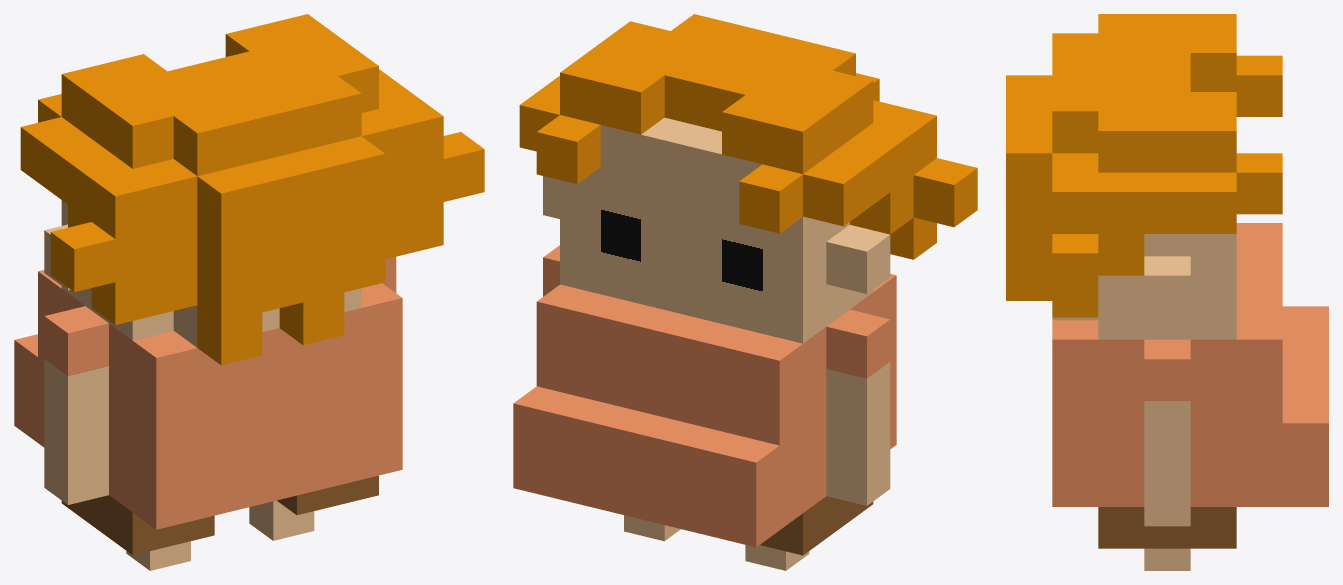
Rendered from chr_fatkid.fbx.
3 renders of one model, left to right at view 1: azimuth 30°, elevation 25°; view 2: azimuth 150°, elevation 25°; view 3: azimuth 270°, elevation 25°, orthographic. The views are drawn at different scales.
Parts seen in each view (by area): view 1: chr_fatkid; view 2: chr_fatkid; view 3: chr_fatkid.
Part boxes in pixels (<box>): chr_fatkid: <box>14,14,484,570</box>; chr_fatkid: <box>513,14,977,570</box>; chr_fatkid: <box>1006,14,1328,570</box>.
Bounding box in the file's own units: 1 × 0.7 × 1.1.
1 material, 1 textured.
